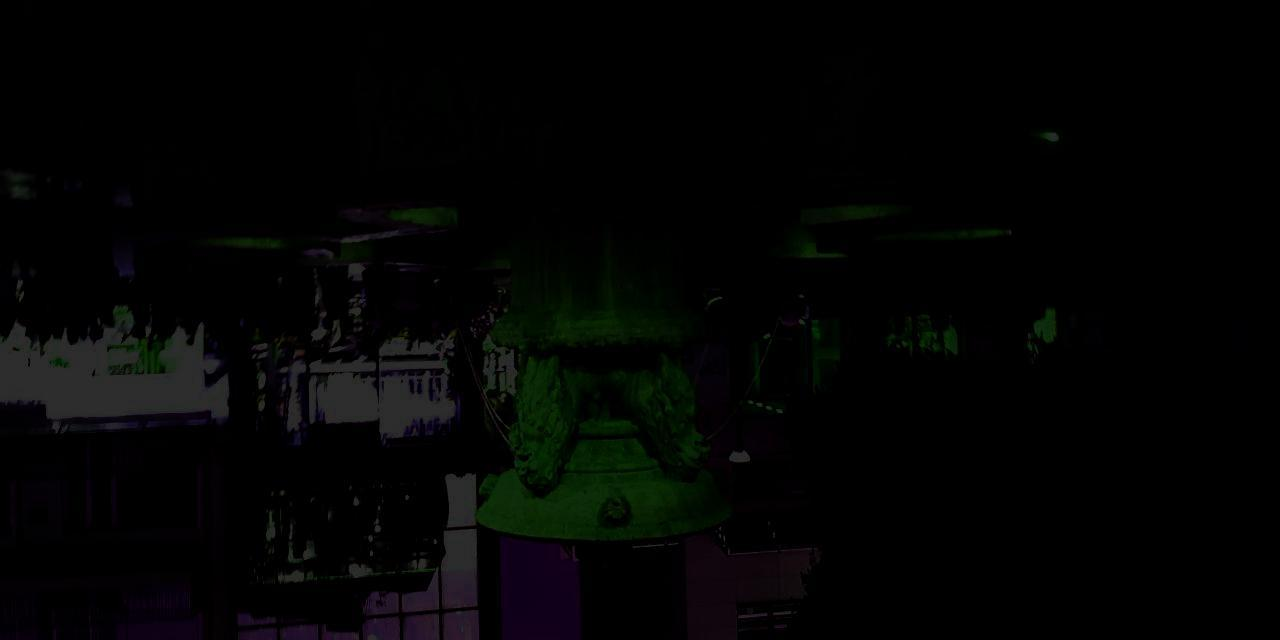Liontaria: (130, 10, 1050, 544)
